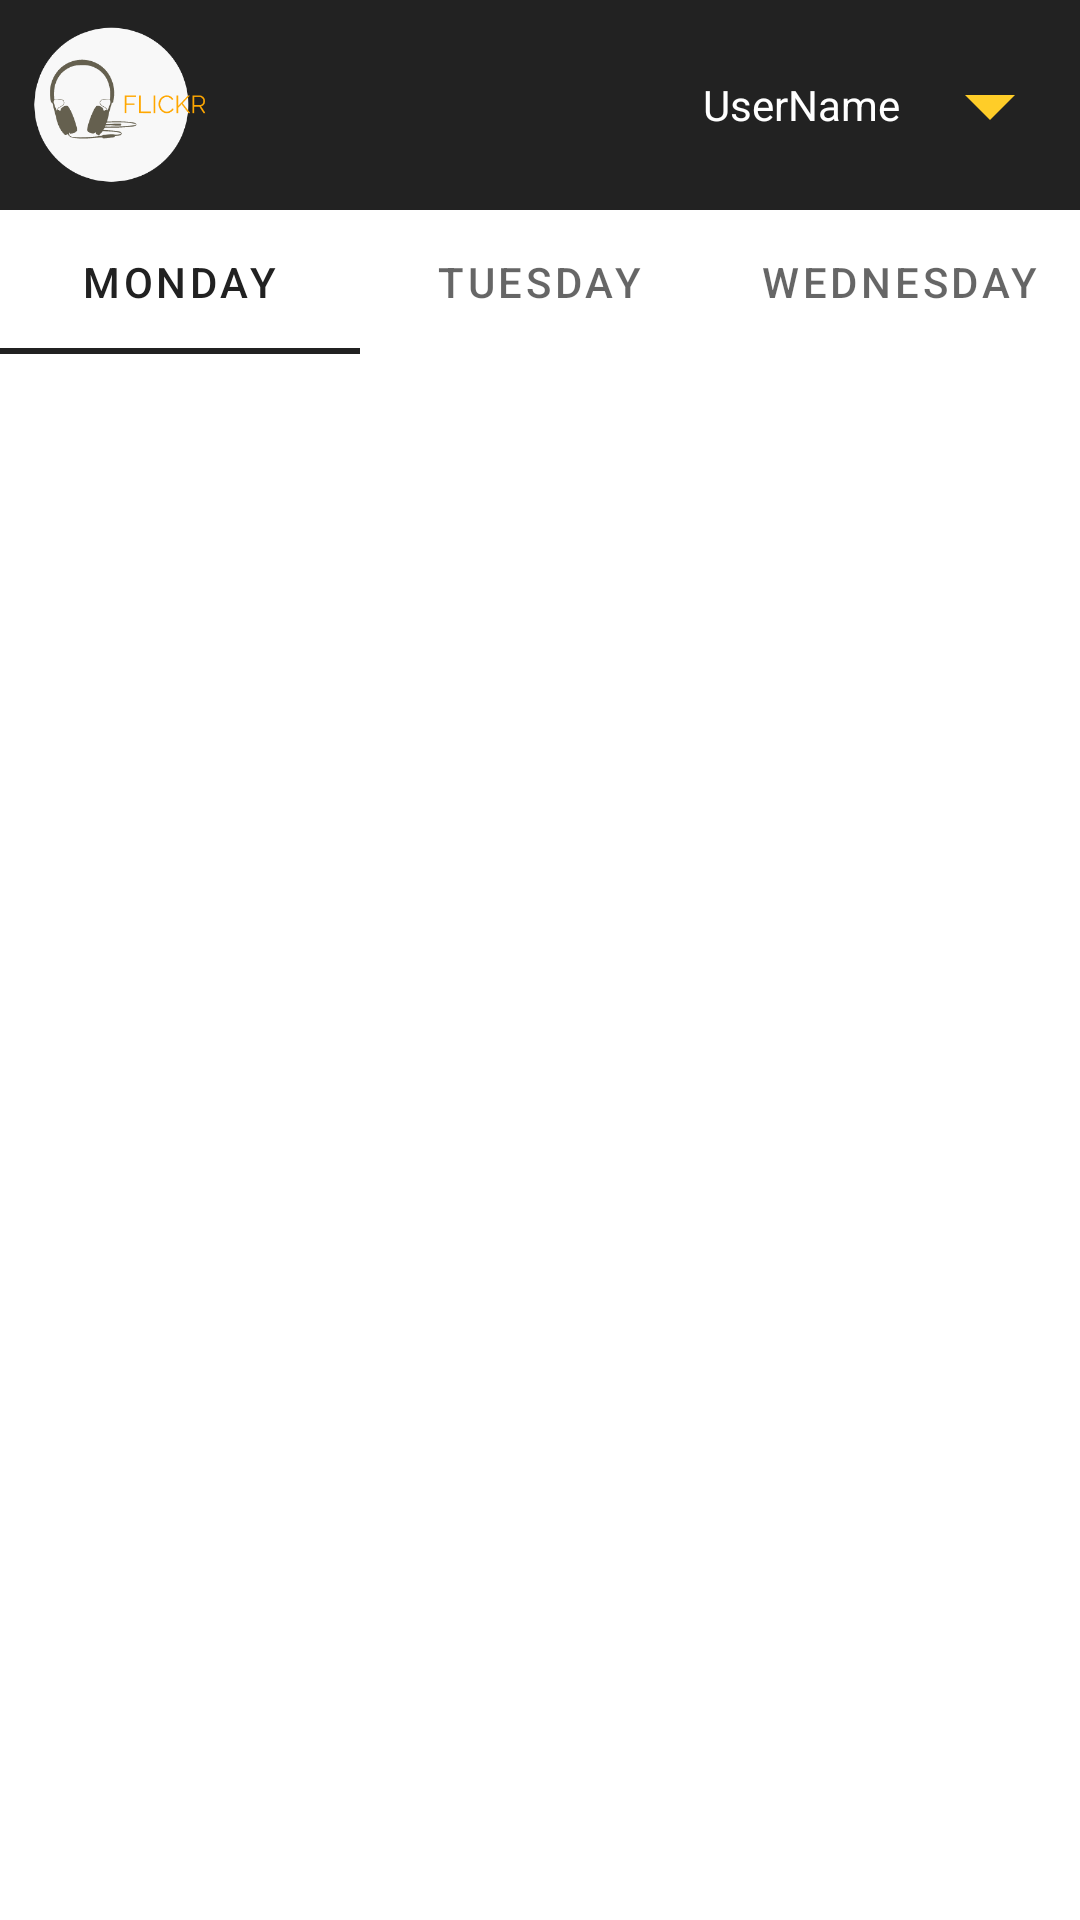

Where to tap for icons on this 1080*1920 app screen, as (x=x, y=y):
arrow drop down: (x=990, y=107)
